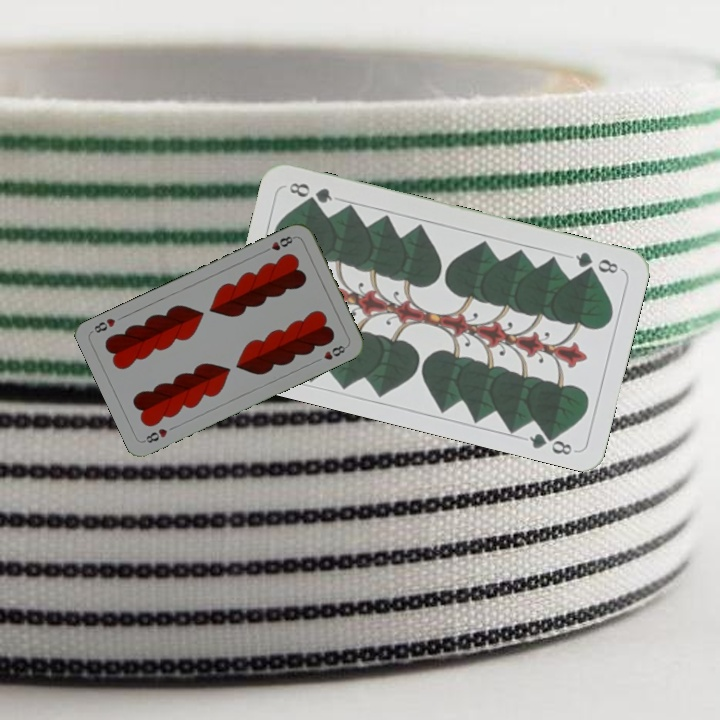G8: (571, 248, 621, 276)
H8: (259, 232, 298, 255), (140, 424, 170, 446)
